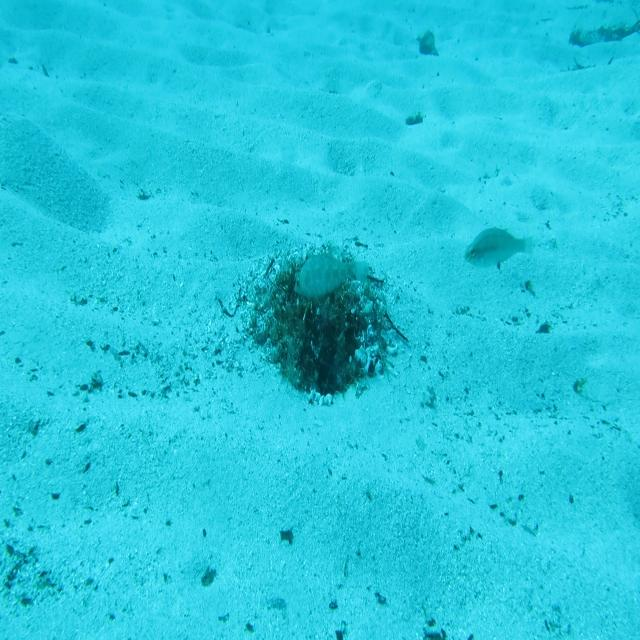INSF: (293, 250, 371, 304)
female: (462, 226, 534, 271)
nest: (234, 236, 399, 410)
vegetation: (416, 27, 441, 59), (277, 523, 297, 545), (406, 110, 425, 128)
